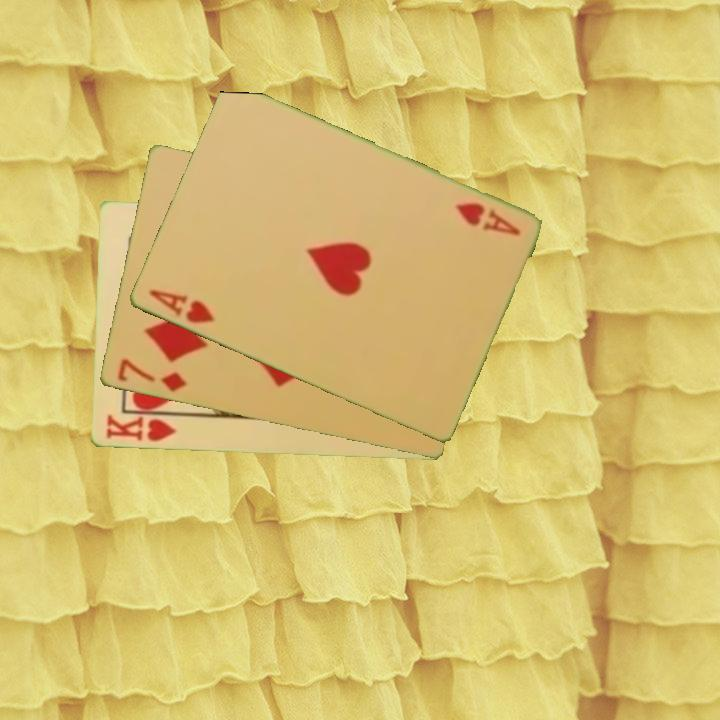7d: (113, 355, 189, 395)
Ah: (145, 286, 217, 327), (450, 199, 523, 239)
Kh: (102, 410, 185, 445)
